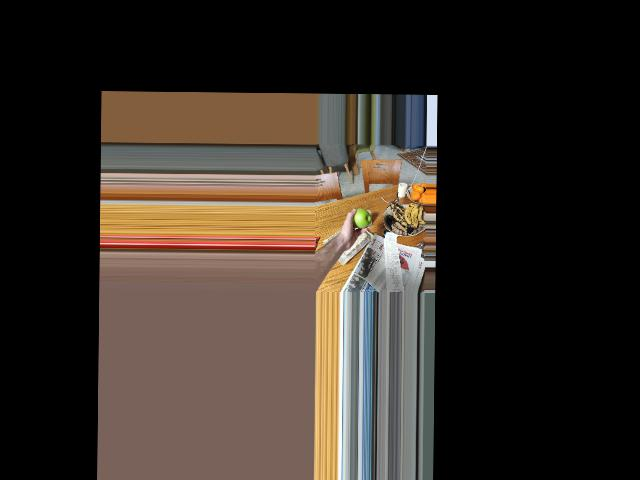apple: (350, 207, 370, 230)
